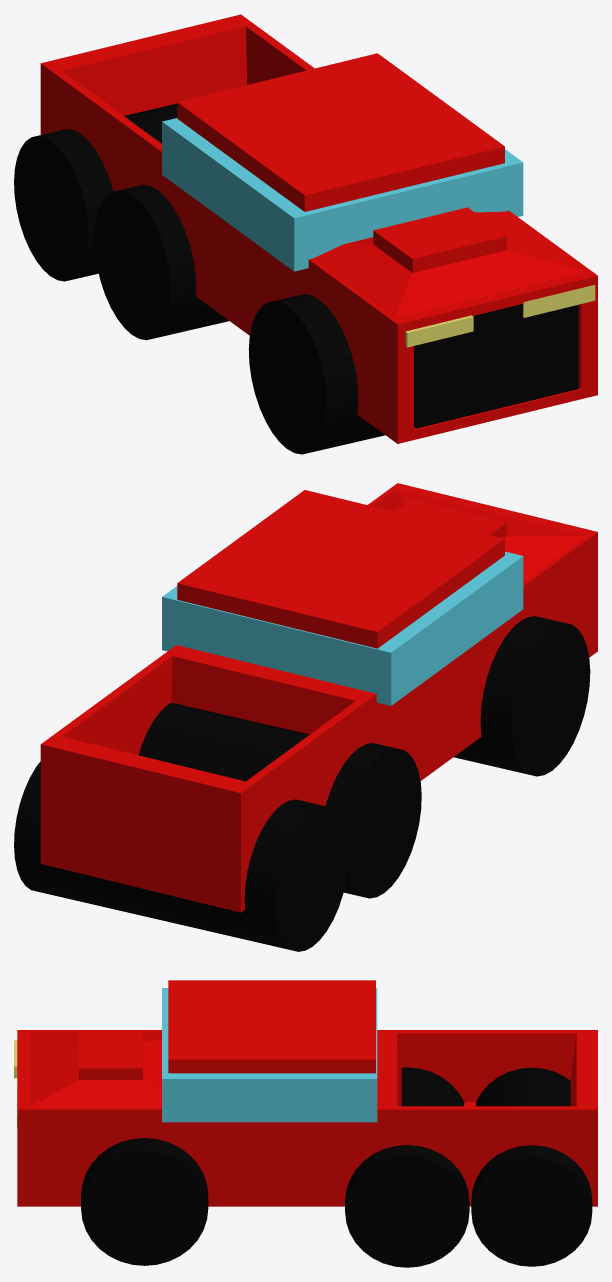
The model's file is ram.glb.
3 views of the same model, one above another, from view 1: azimuth 30°, elevation 25°; view 2: azimuth 150°, elevation 25°; view 3: azimuth 270°, elevation 25° (orthographic). The views are drawn at different scales.
Visible parts, largest first — view 1: Cube, Куб, Куб.001, Циліндр.002, Циліндр, Циліндр.001, Куб.002, Куб.003; view 2: Cube, Циліндр.001, Куб, Циліндр, Циліндр.002; view 3: Cube, Циліндр.001, Циліндр, Циліндр.002, Куб.
Part boxes in pixels (box(x1,y1,x2,y2)): Cube: box(40, 14, 597, 443); Куб: box(162, 118, 523, 271); Куб.001: box(414, 304, 578, 428); Циліндр.002: box(248, 294, 384, 454); Циліндр: box(94, 184, 228, 340); Циліндр.001: box(14, 103, 177, 281); Куб.002: box(523, 285, 595, 317); Куб.003: box(405, 315, 473, 347); Cube: box(40, 483, 597, 912); Циліндр.001: box(14, 761, 348, 951); Куб: box(162, 551, 523, 705); Циліндр: box(138, 702, 421, 898); Циліндр.002: box(454, 616, 590, 776); Cube: box(17, 980, 597, 1206); Циліндр.001: box(471, 1067, 592, 1266); Циліндр: box(345, 1067, 469, 1267); Циліндр.002: box(81, 1138, 208, 1265); Куб: box(162, 988, 377, 1122).
Bounding box in the file's own units: 2.54 × 2.23 × 5.95.
